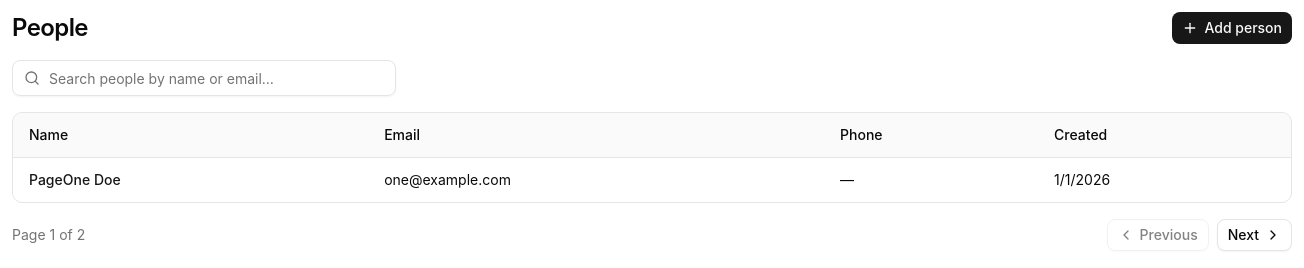
Test: PeoplePage › pages through the list by offset
expect the link "PageOne Doe" is shown: met, box top-left (29, 171), bottom-right (121, 188)
expect the text "Page 1 of 2" is shown: met, box top-left (12, 225), bottom-right (85, 245)
Step 1. Click the button "Next" → (1254, 235), box top-left (1217, 219), bottom-right (1292, 251)
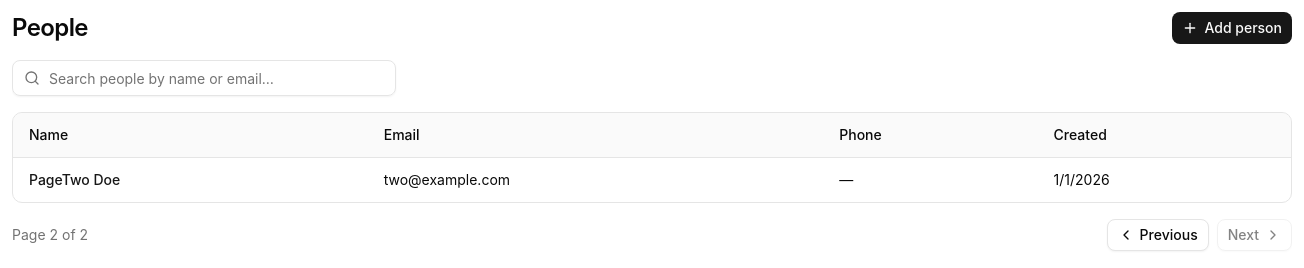
expect the link "PageTwo Doe" is shown: met, box top-left (29, 171), bottom-right (120, 188)
expect the text "Page 2 of 2" is shown: met, box top-left (12, 225), bottom-right (88, 245)
expect the button "Next" is disabled: met, box top-left (1217, 219), bottom-right (1292, 251)
